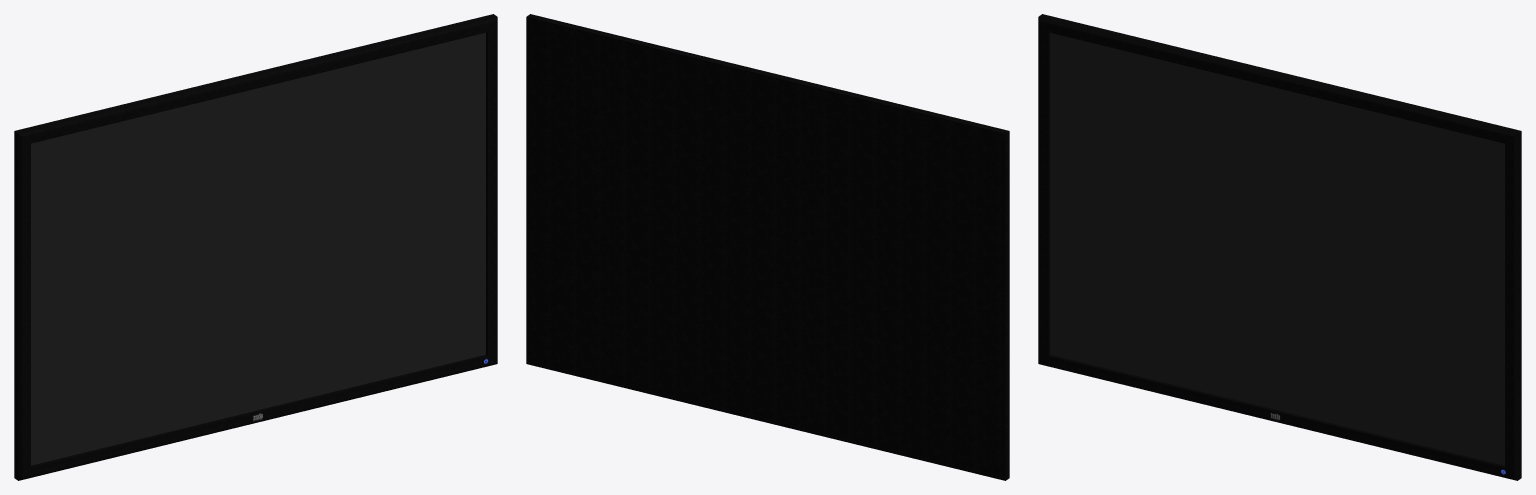
3 views of the same model, side by side, from view 1: azimuth 30°, elevation 25°; view 2: azimuth 150°, elevation 25°; view 3: azimuth 330°, elevation 25° (orthographic).
Parts seen in each view (by area): view 1: TV Screen, TV Box; view 2: TV Box; view 3: TV Screen, TV Box.
Boxes of the visible parts, x1,y1,x2,y2 form: TV Screen: (31,32,485,465); TV Box: (14,14,497,480); TV Box: (526,14,1009,480); TV Screen: (1050,32,1504,465); TV Box: (1038,14,1521,480).
Size of the model in its own units: 1.06 by 0.733 by 0.0202.
2 materials, 2 textured.
